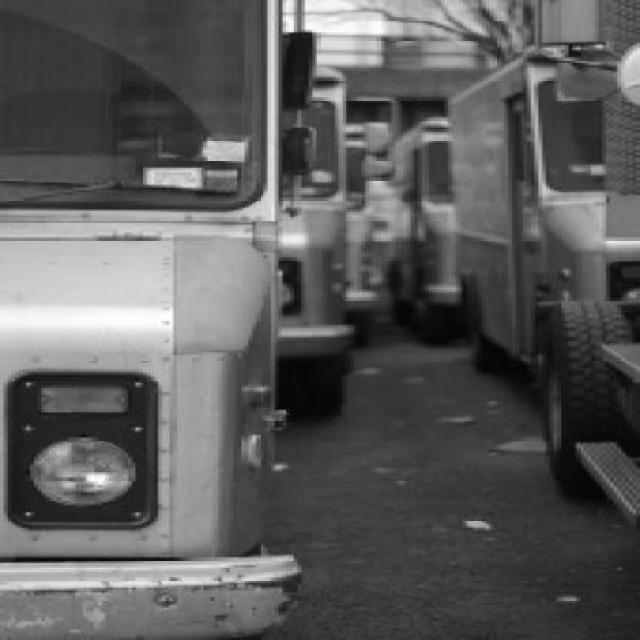Box Truck: (451, 44, 640, 389), (278, 66, 352, 412), (394, 118, 463, 342)
